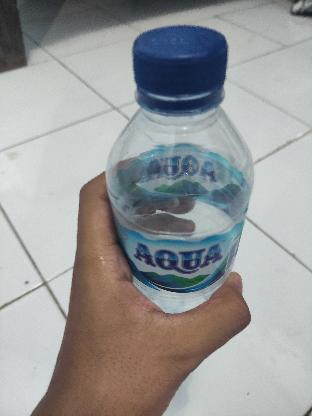Plastic Bottle: (95, 23, 259, 390)
